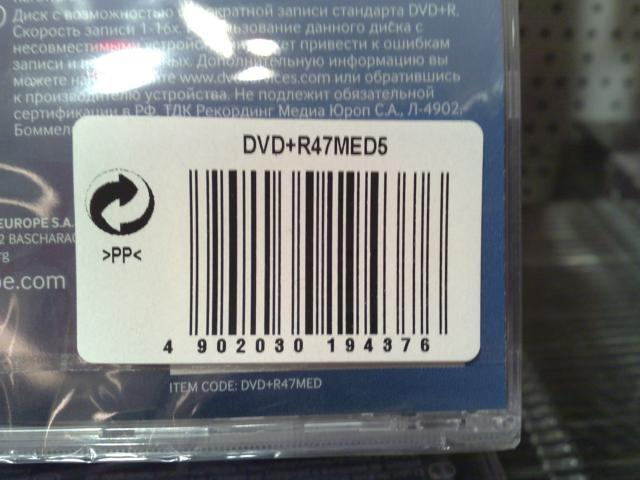Barcode: (157, 159, 470, 360)
